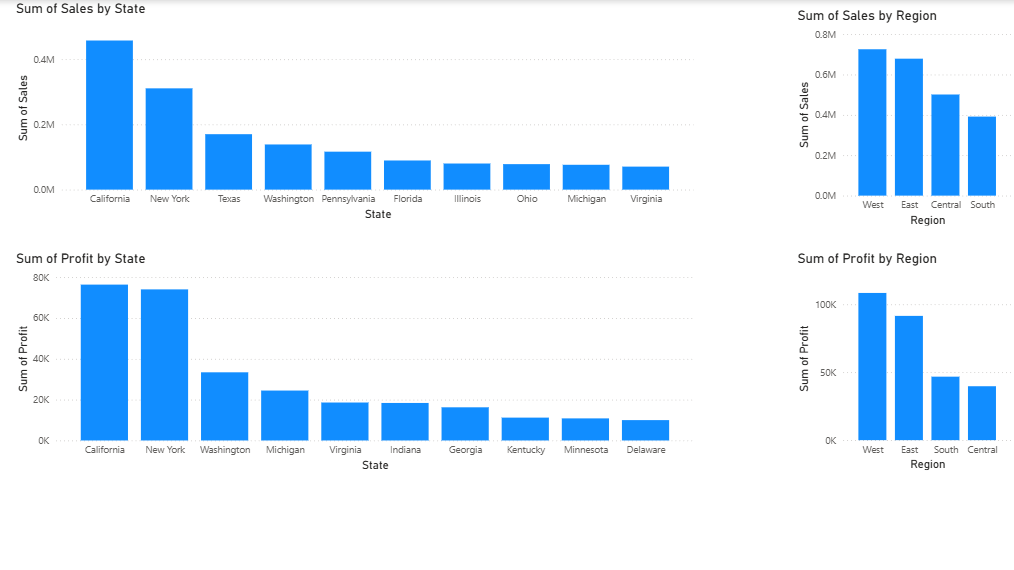

The page's visual inventory and layout, read from the dashboard file:
{"tool":"powerbi","page":{"name":"Regional Analysis","canvas":[1280,720],"ordinal":3},"visuals":[{"type":"clusteredColumnChart","fields":{"Category":["Sample - Superstore.Region"],"Y":["Sum(Sample - Superstore.Sales)"]},"box":[999.7,9.4,279.7,279.7],"z":0},{"type":"clusteredColumnChart","fields":{"Category":["Sample - Superstore.Region"],"Y":["Sum(Sample - Superstore.Profit)"]},"box":[999.7,315.6,279.7,281.6],"z":1000},{"type":"clusteredColumnChart","fields":{"Category":["Sample - Superstore.State"],"Y":["Sum(Sample - Superstore.Sales)"]},"box":[15.1,0,863.6,281.6],"z":2000},{"type":"columnChart","fields":{"Category":["Sample - Superstore.State"],"Y":["Sum(Sample - Superstore.Profit)"]},"box":[15,316,864,282],"z":3000}]}

Visuals, with their boxes in screenshot pixels (x1, y1, x2, y2), scaled from the page's 1280x720 canvas onto the 1014x570 screenshot:
clusteredColumnChart - Sample - Superstore.Region x Sum(Sample - Superstore.Sales): Rect(792, 7, 1013, 229)
clusteredColumnChart - Sample - Superstore.Region x Sum(Sample - Superstore.Profit): Rect(792, 250, 1013, 473)
clusteredColumnChart - Sample - Superstore.State x Sum(Sample - Superstore.Sales): Rect(12, 0, 696, 223)
columnChart - Sample - Superstore.State x Sum(Sample - Superstore.Profit): Rect(12, 250, 696, 473)
